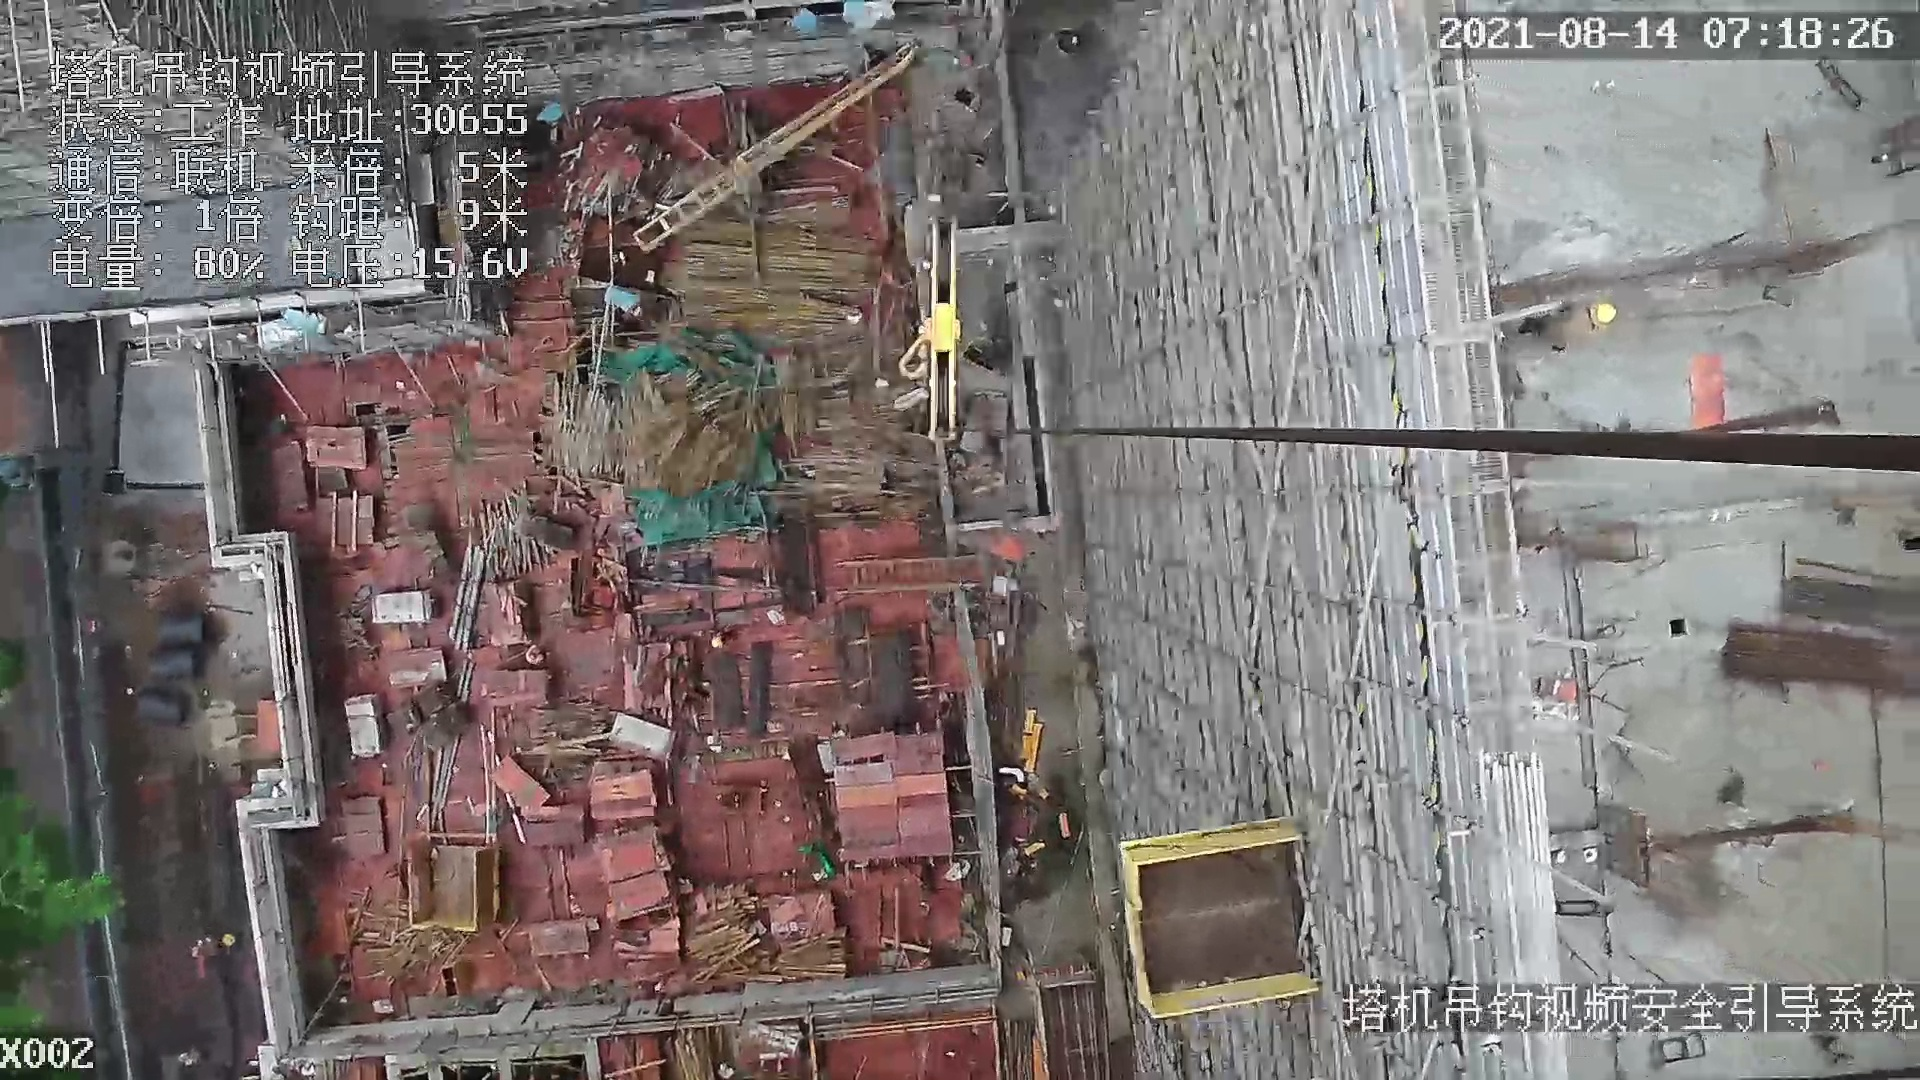helmet: (1578, 301, 1629, 335)
hook: (894, 208, 965, 440)
